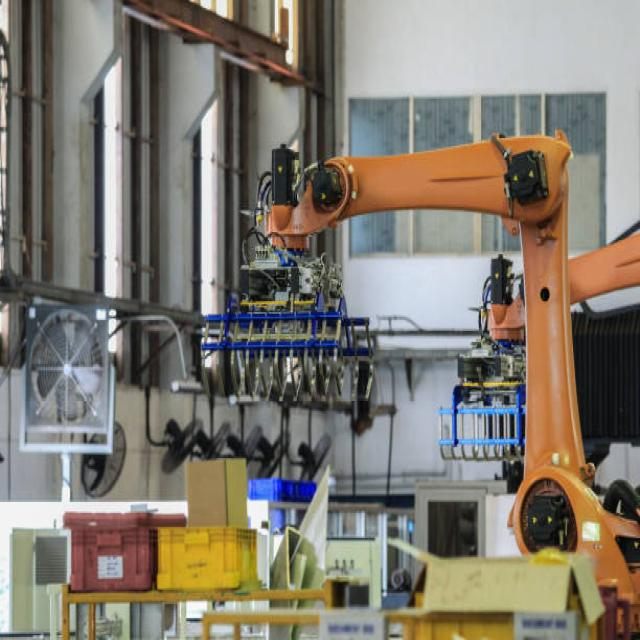Robotic-arm: (260, 121, 640, 626)
